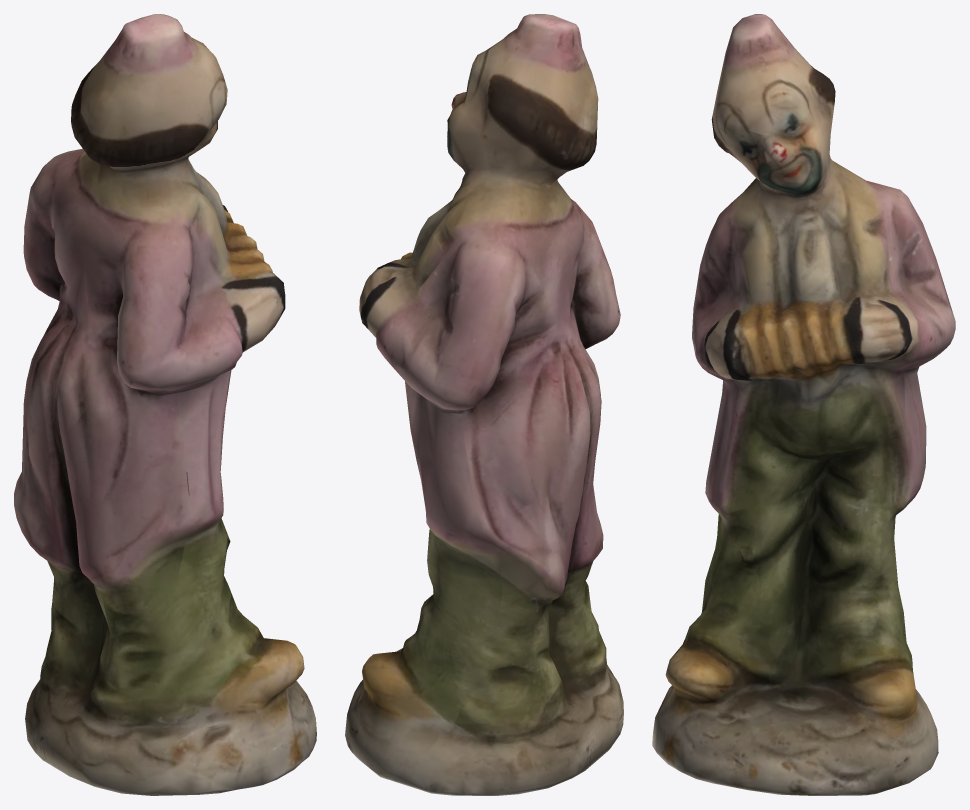
The model's file is clown_statue.glb.
3 renders of one model, left to right at view 1: azimuth 30°, elevation 25°; view 2: azimuth 150°, elevation 25°; view 3: azimuth 270°, elevation 25°, orthographic. The views are drawn at different scales.
Visible parts, largest first — view 1: baked; view 2: baked; view 3: baked.
Boxes of the visible parts, x1,y1,x2,y2 form: baked: (14, 14, 316, 795); baked: (345, 14, 623, 795); baked: (652, 14, 955, 795).
Bounding box in the file's own units: 15.82 × 46.86 × 18.14.
1 material, 1 textured.
